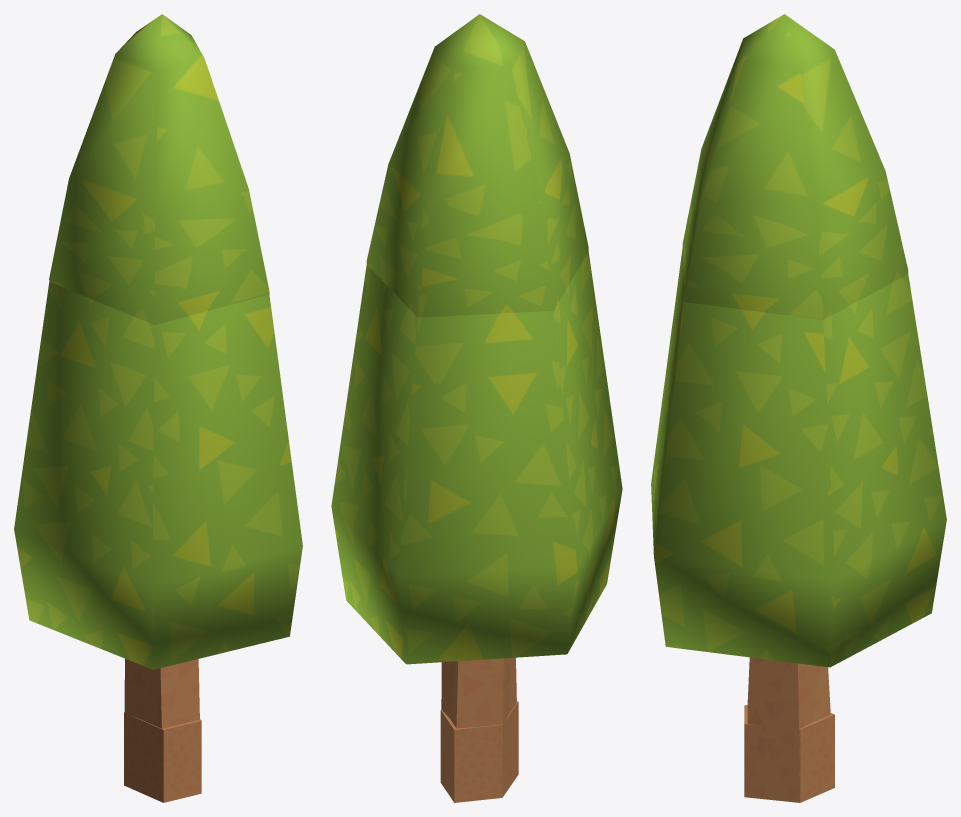
Rendered from juniper_tree.glb.
The picture shows the model from 3 angles, left to right: view 1: azimuth 30°, elevation 25°; view 2: azimuth 150°, elevation 25°; view 3: azimuth 270°, elevation 25°; orthographic projection.
Visible parts, largest first — view 1: juniper_tree_a, juniper_tree_b, juniper_tree; view 2: juniper_tree_a, juniper_tree_b, juniper_tree; view 3: juniper_tree_a, juniper_tree_b, juniper_tree.
Boxes of the visible parts, x1,y1,x2,y2 form: juniper_tree_a: [14, 282, 302, 781]; juniper_tree_b: [49, 14, 269, 324]; juniper_tree: [124, 712, 201, 802]; juniper_tree_a: [331, 251, 622, 796]; juniper_tree_b: [366, 14, 588, 317]; juniper_tree: [440, 701, 518, 802]; juniper_tree_a: [651, 248, 946, 802]; juniper_tree_b: [682, 14, 908, 319]; juniper_tree: [744, 705, 834, 802].
Bounding box in the file's own units: 1.39 × 4.17 × 1.45.
Materials: 2 (2 with a texture image).
